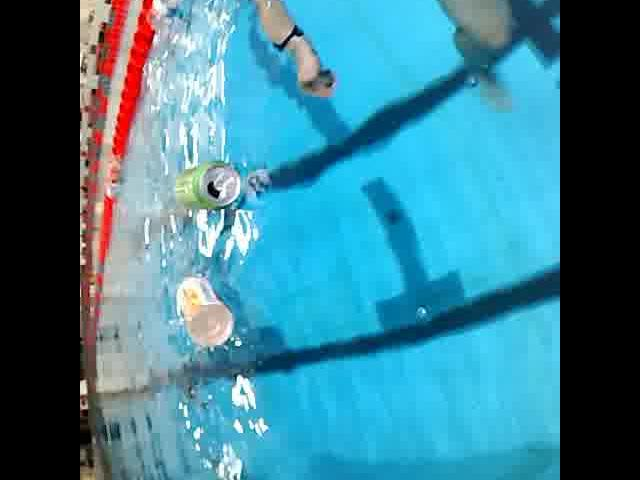Bottle: (173, 270, 237, 350), (148, 0, 192, 29)
Can: (171, 158, 247, 214)
